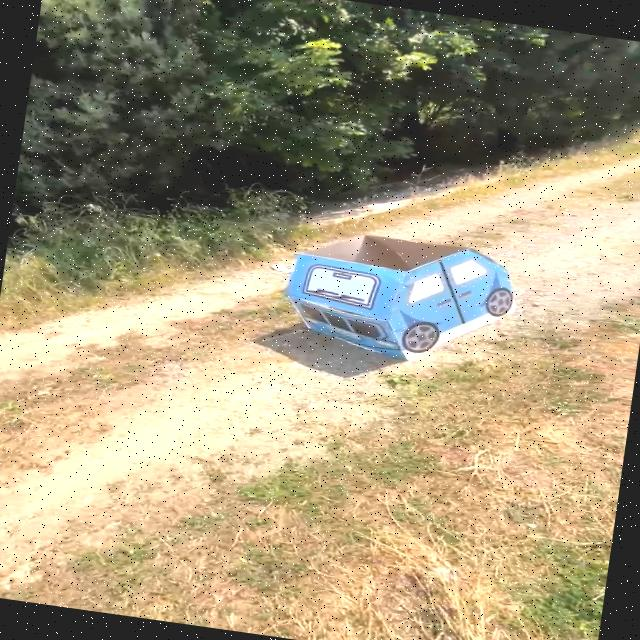blue_car: (270, 204, 533, 394)
